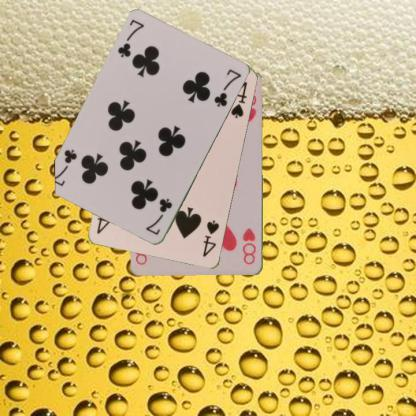4s: (200, 218, 221, 259)
7c: (115, 16, 146, 60), (143, 196, 174, 237)
8h: (240, 225, 258, 266)
